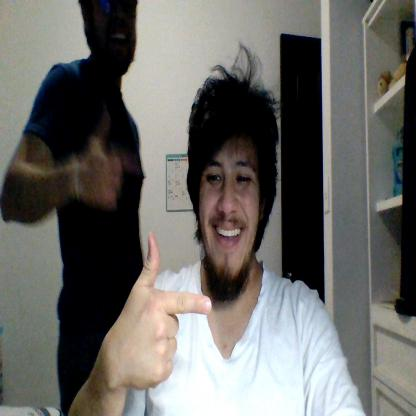G: (126, 232, 211, 387)
